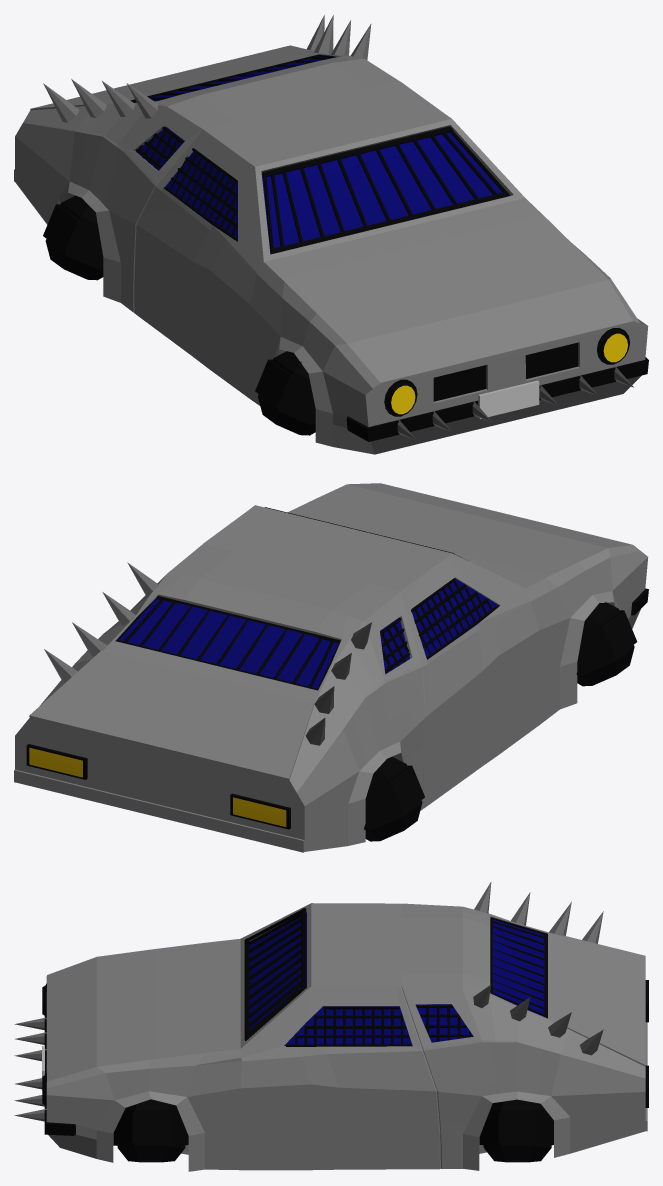
Rendered from SM_Player_Car_03.fbx.
3 renders of one model, top to bottom at view 1: azimuth 30°, elevation 25°; view 2: azimuth 150°, elevation 25°; view 3: azimuth 270°, elevation 25°, orthographic. The views are drawn at different scales.
Parts seen in each view (by area): view 1: SM_Player_Car_03; view 2: SM_Player_Car_03; view 3: SM_Player_Car_03.
Part boxes in pixels (x1,y1,x2,y2): SM_Player_Car_03: (14,15,648,454); SM_Player_Car_03: (14,483,648,852); SM_Player_Car_03: (14,882,648,1171).
Size of the model in its own units: 223 by 123 by 400.
